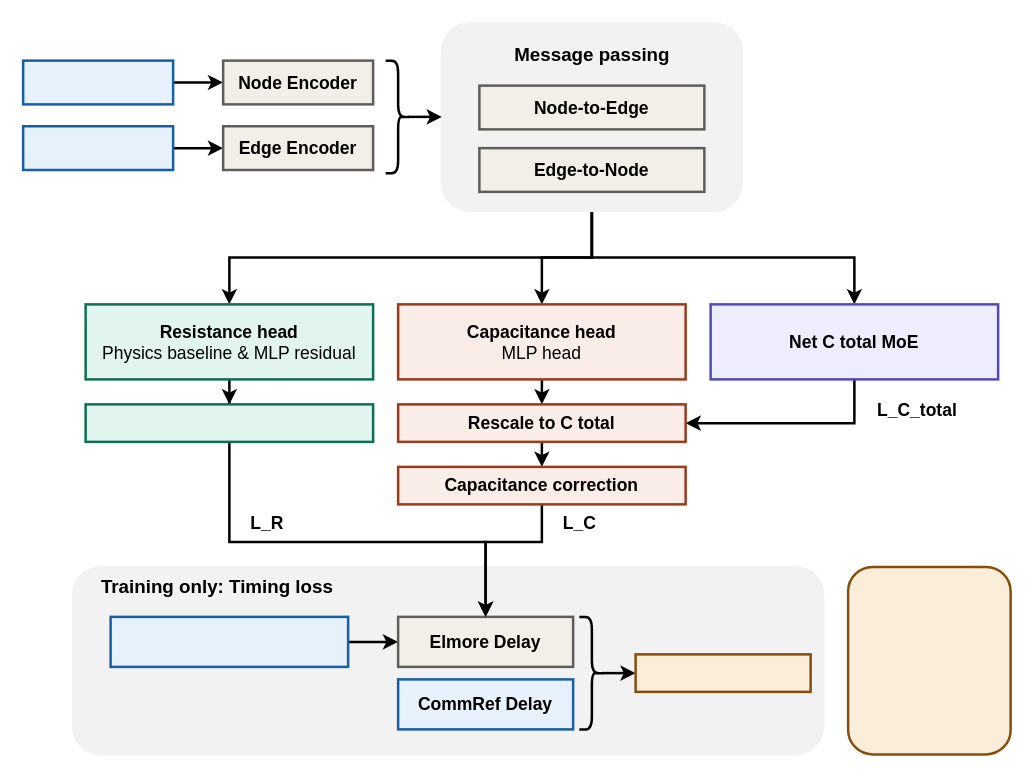
Image size: 1033x776. Some labels were removed from this diagram. Here are the shapes that lost their labels. From the top down, the box of each, then its label:
(21, 59, 174, 105): Node Features
(21, 124, 174, 171): Edge Features
(84, 402, 374, 442): Resistance correction
(109, 615, 349, 668): Liberty pin capacitance
(846, 565, 1011, 755): Total loss L_R + L_C + L_C_total + L_timing
(634, 652, 811, 692): L_timing
